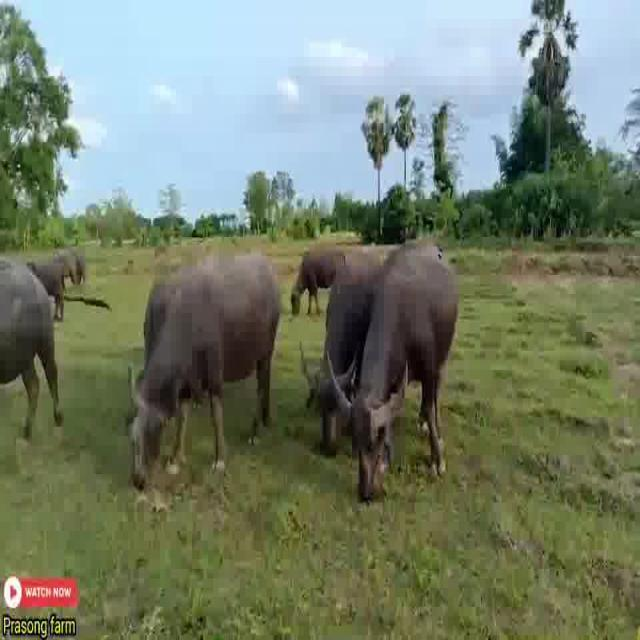buffalo: (126, 237, 276, 499), (336, 231, 458, 517), (0, 206, 62, 438)
